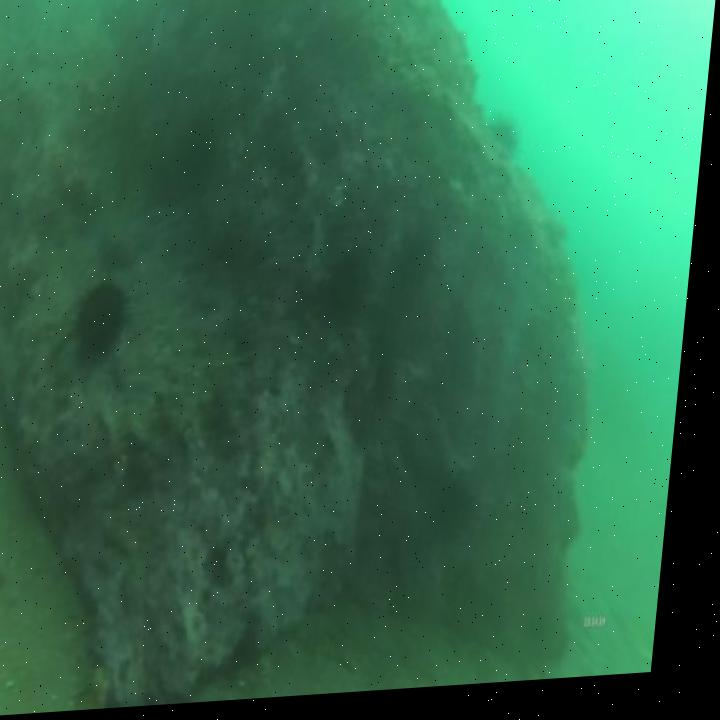echinus: (76, 269, 138, 371), (174, 103, 228, 204), (323, 240, 377, 333), (399, 212, 445, 305), (449, 467, 492, 556)
